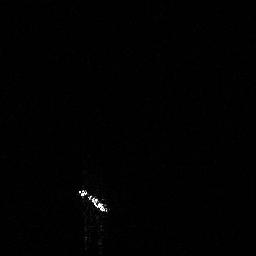ship: (74, 184, 112, 217)
